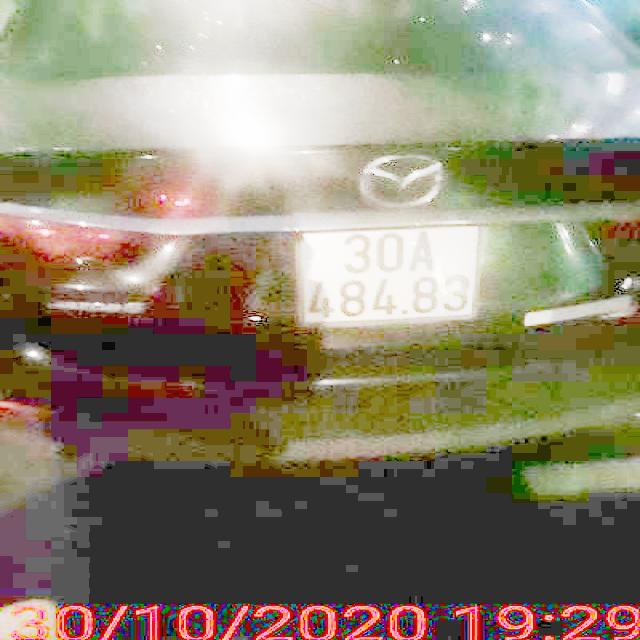license_plate: (292, 226, 487, 324)
